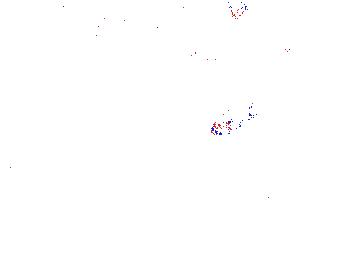glassfish: (68, 2, 218, 70)
red belly glassfish: (210, 108, 252, 137)
redtail glassfish: (280, 38, 319, 101)
